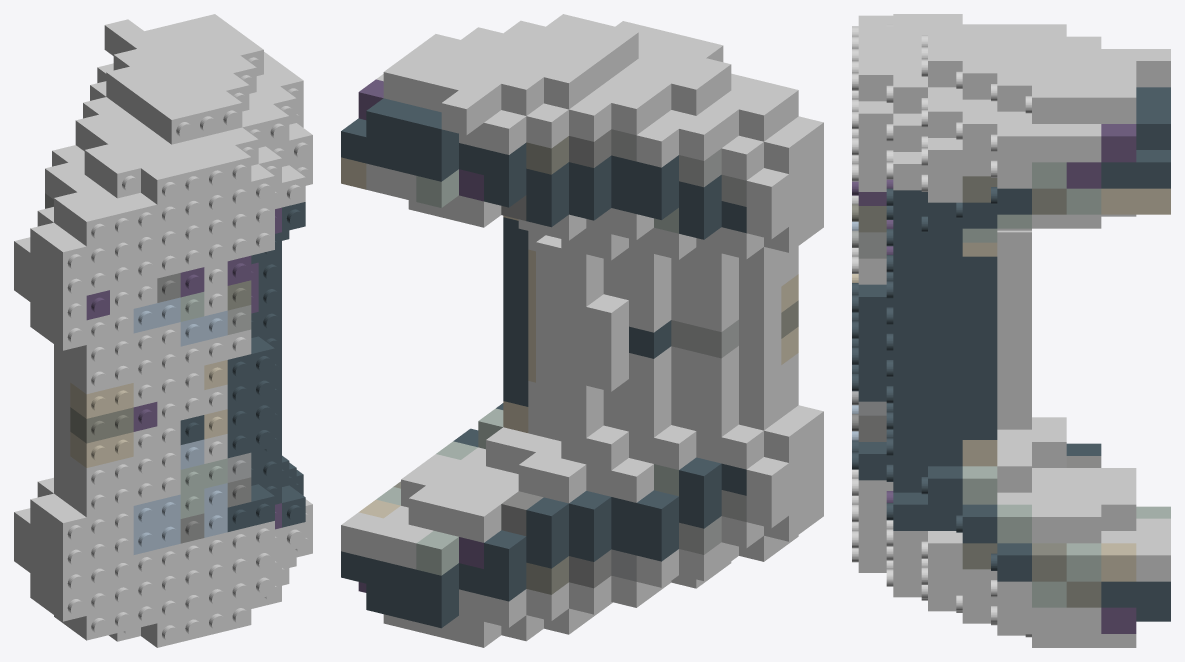
File: full.glb
3 views of the same model, side by side, from view 1: azimuth 30°, elevation 25°; view 2: azimuth 150°, elevation 25°; view 3: azimuth 270°, elevation 25° (orthographic). The views are drawn at different scales.
Parts seen in each view (by area): view 1: world; view 2: world; view 3: world.
Part boxes in pixels (x1,y1,x2,y2): world: [14, 14, 312, 647]; world: [341, 14, 823, 647]; world: [852, 14, 1170, 647].
Bounding box in the file's own units: 104 × 168 × 88.2.
